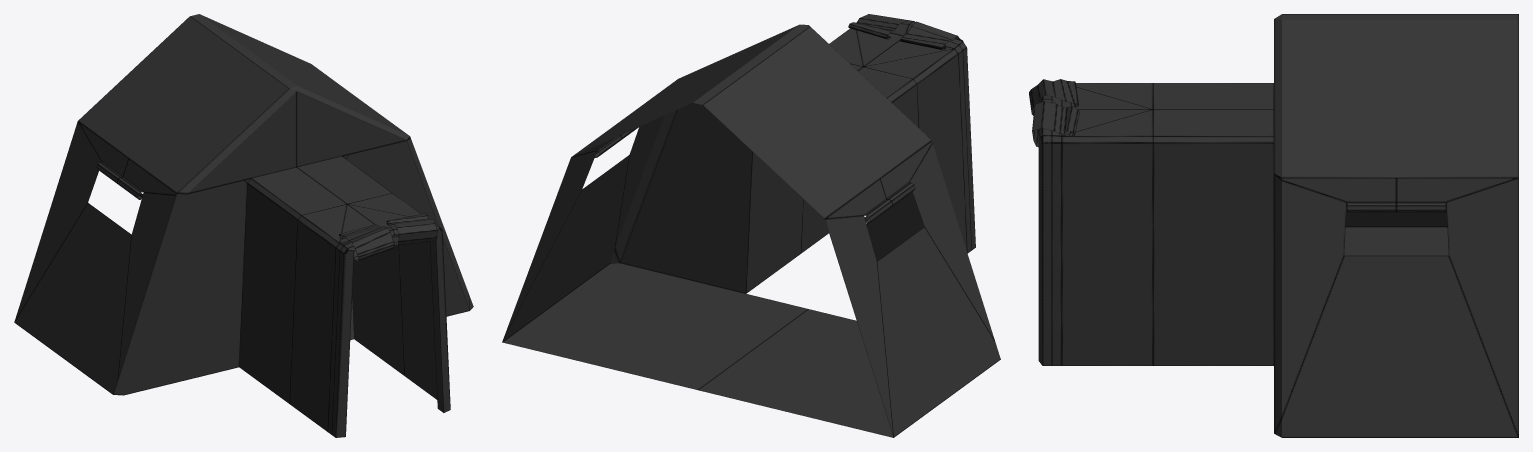
The model's file is BarracksEnd.fbx.
3 renders of one model, left to right at view 1: azimuth 30°, elevation 25°; view 2: azimuth 150°, elevation 25°; view 3: azimuth 270°, elevation 25°, orthographic. The views are drawn at different scales.
Visible parts, largest first — view 1: BarracksEnd; view 2: BarracksEnd; view 3: BarracksEnd.
Boxes of the visible parts, left/top/right/bottom form: BarracksEnd: left=14, top=14, right=473, bottom=437; BarracksEnd: left=502, top=14, right=1000, bottom=437; BarracksEnd: left=1029, top=14, right=1518, bottom=437.
Bounding box in the file's own units: 1142 × 796 × 1120.
